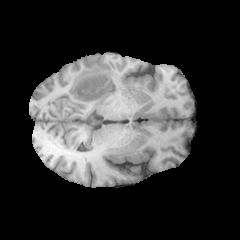glioma: (65, 58, 116, 102)
